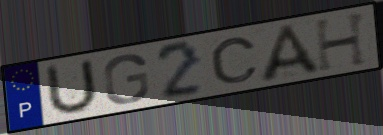2: (153, 40, 209, 104)
A: (257, 21, 326, 85)
C: (208, 35, 262, 86)
G: (101, 52, 152, 105)
H: (312, 9, 371, 74)
U: (45, 56, 100, 119)
